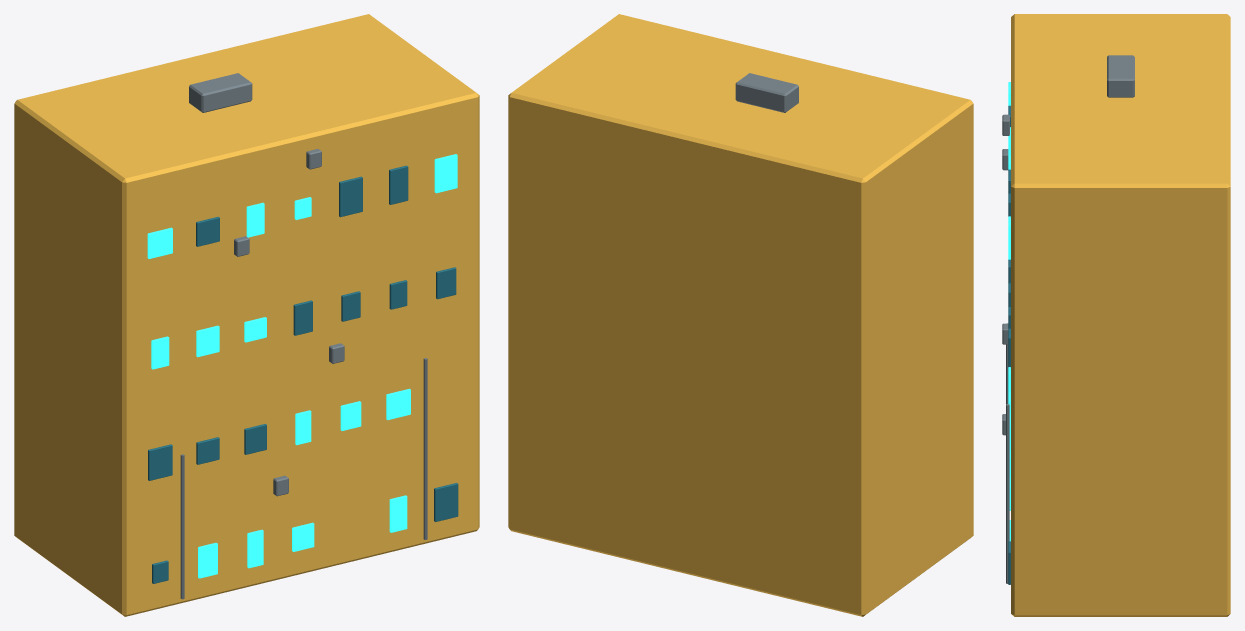
File: building_023_seed11.glb
3 renders of one model, left to right at view 1: azimuth 30°, elevation 25°; view 2: azimuth 150°, elevation 25°; view 3: azimuth 270°, elevation 25°, orthographic.
Parts seen in each view (by area): view 1: building_023_seed11; view 2: building_023_seed11; view 3: building_023_seed11.
Part boxes in pixels (x1=…): building_023_seed11: x1=14, y1=14, x2=479, y2=616; building_023_seed11: x1=508, y1=14, x2=973, y2=616; building_023_seed11: x1=1002, y1=14, x2=1230, y2=616.
Bounding box in the file's own units: 9.71 × 11.88 × 5.43.
